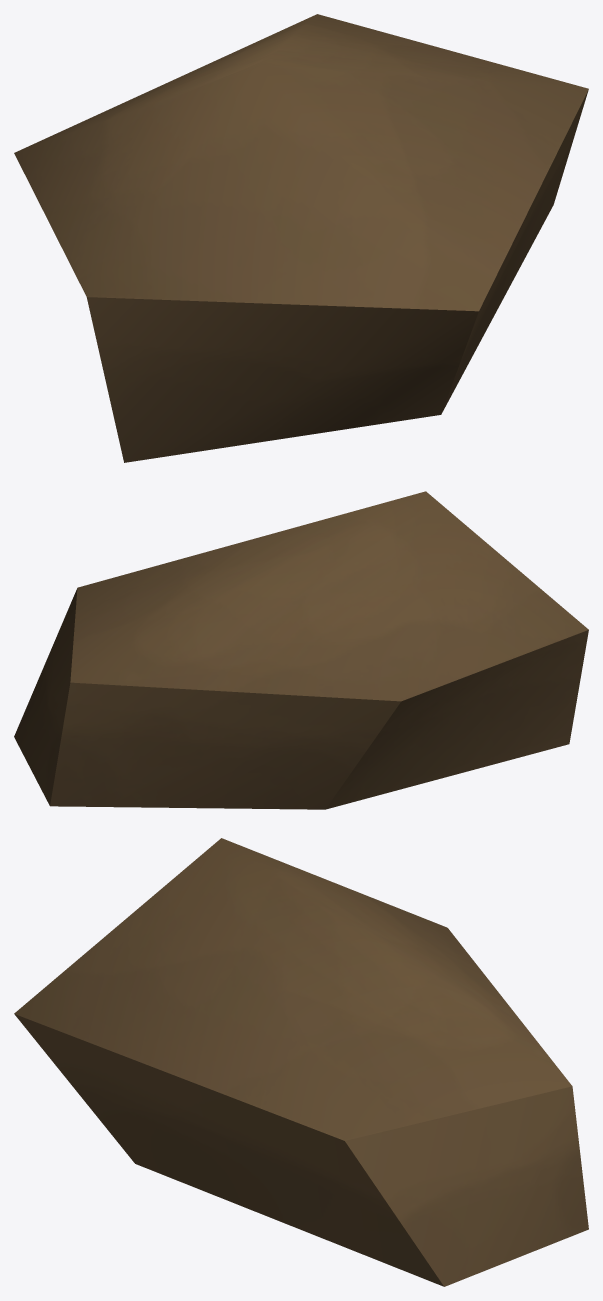
Rendered from Stone_03.FBX.
The picture shows the model from 3 angles, top to bottom: view 1: azimuth 30°, elevation 25°; view 2: azimuth 150°, elevation 25°; view 3: azimuth 270°, elevation 25°; orthographic projection. The views are drawn at different scales.
Visible parts, largest first — view 1: Stone_03; view 2: Stone_03; view 3: Stone_03.
Part boxes in pixels (x1,y1,x2,y2): Stone_03: (14, 14, 588, 462); Stone_03: (14, 491, 588, 809); Stone_03: (14, 838, 588, 1286).
Size of the model in its own units: 17.96 by 17.51 by 9.36.
